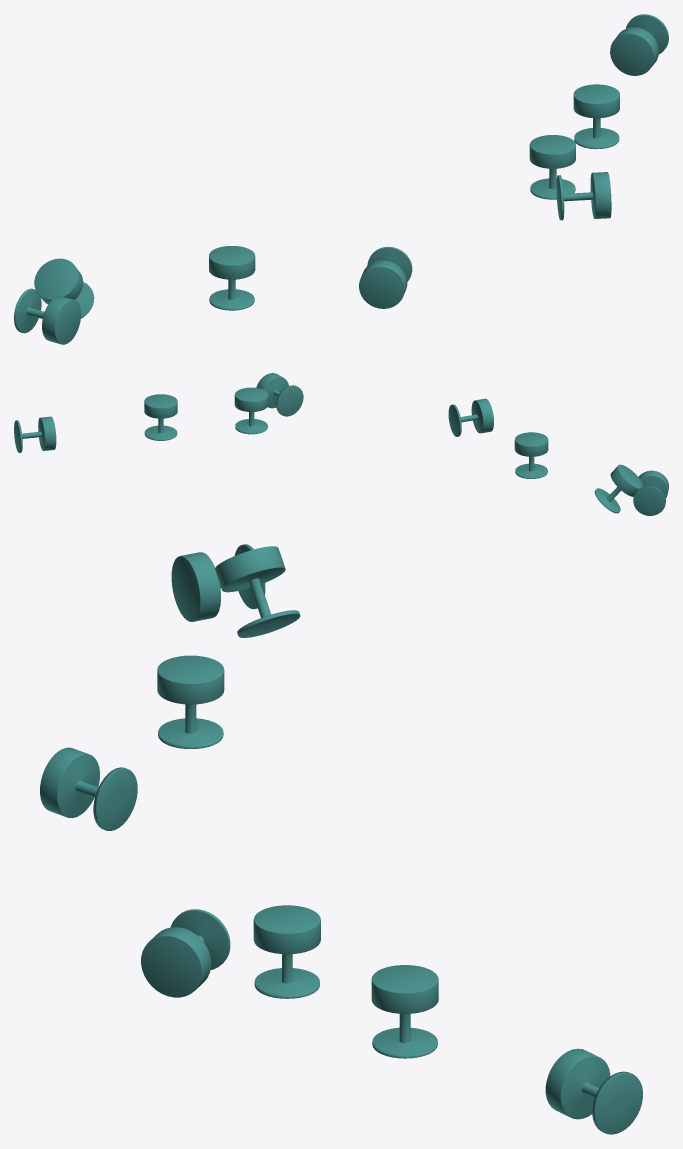
File: Bancos.fbx
3 views of the same model, one above another, from view 1: azimuth 30°, elevation 25°; view 2: azimuth 150°, elevation 25°; view 3: azimuth 270°, elevation 25° (orthographic). The views are drawn at different scales.
Visible parts, largest first — view 1: Cylinder.036, Cylinder.040, Cylinder.038, Cylinder.037, Cylinder.035, Cylinder.034, Cylinder.039, Cylinder.041; view 2: Cylinder.041, Cylinder.038, Cylinder.034, Cylinder.037, Cylinder.035, Cylinder.040, Cylinder.039, Cylinder.036; view 3: Cylinder.036, Cylinder.041, Cylinder.040, Cylinder.035, Cylinder.037, Cylinder.034, Cylinder.039, Cylinder.038.
Part boxes in pixels (x1,y1,x2,y2): Cylinder.036: [610, 14, 668, 75]; Cylinder.040: [359, 246, 412, 308]; Cylinder.038: [14, 288, 80, 344]; Cylinder.037: [209, 246, 255, 310]; Cylinder.035: [573, 84, 619, 149]; Cylinder.034: [529, 135, 575, 199]; Cylinder.039: [34, 258, 94, 318]; Cylinder.041: [556, 172, 611, 220]; Cylinder.041: [256, 373, 303, 416]; Cylinder.038: [633, 470, 668, 515]; Cylinder.034: [234, 387, 268, 434]; Cylinder.037: [514, 432, 548, 478]; Cylinder.035: [144, 394, 177, 440]; Cylinder.040: [448, 398, 493, 436]; Cylinder.039: [594, 464, 643, 513]; Cylinder.036: [14, 416, 56, 452]; Cylinder.036: [545, 1048, 642, 1134]; Cylinder.041: [141, 909, 230, 997]; Cylinder.040: [40, 747, 137, 830]; Cylinder.035: [371, 965, 438, 1058]; Cylinder.037: [157, 655, 224, 748]; Cylinder.034: [253, 905, 320, 998]; Cylinder.039: [215, 546, 300, 637]; Cylinder.038: [171, 544, 265, 621].
Size of the model in its own units: 1007 by 75.87 by 468.
